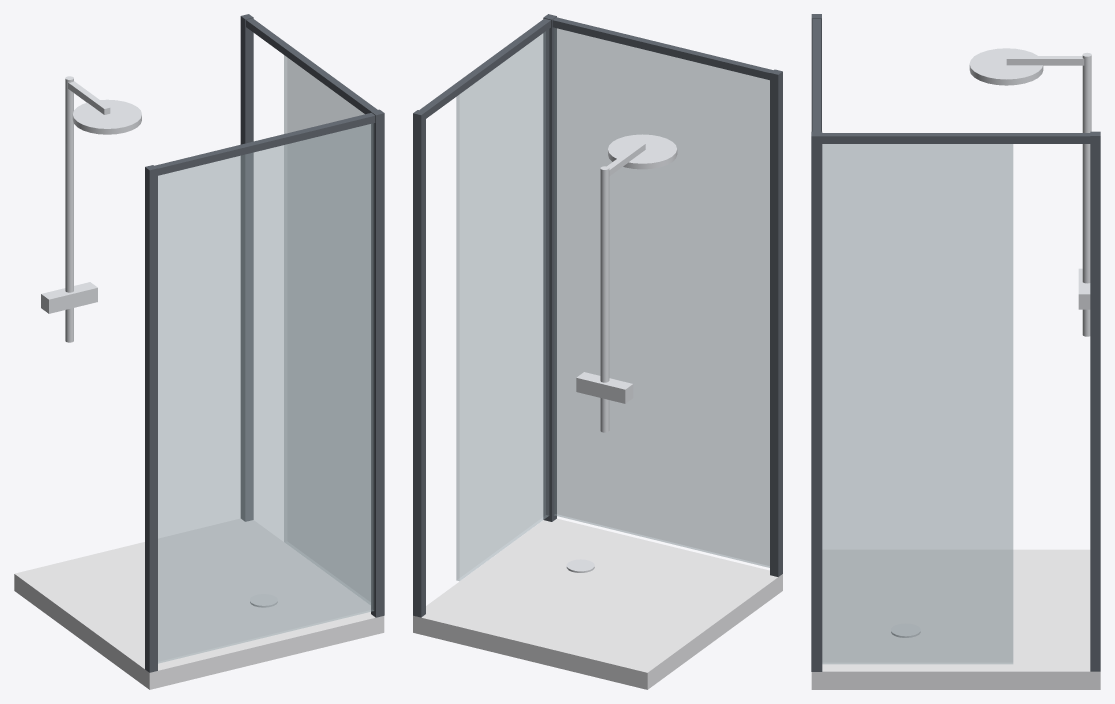
Rendered from Shower1.glb.
3 views of the same model, side by side, from view 1: azimuth 30°, elevation 25°; view 2: azimuth 150°, elevation 25°; view 3: azimuth 270°, elevation 25° (orthographic). The views are drawn at different scales.
Visible parts, largest first — view 1: GlassFront, GlassSide, Tray, PostCorner, PostBack, PostLeft, TopRailFront, ShowerRiser, RainHead, TopRailSide, MixerValve; view 2: GlassFront, GlassSide, Tray, PostCorner, PostLeft, PostBack, TopRailFront, ShowerRiser, TopRailSide, RainHead, MixerValve; view 3: GlassSide, Tray, PostCorner, PostBack, TopRailSide, ShowerRiser, RainHead, TopRailFront, ShowerArm.
Part boxes in pixels (bbox=[...]): GlassFront: bbox=[158, 123, 373, 663]; GlassSide: bbox=[284, 55, 370, 604]; Tray: bbox=[14, 518, 384, 689]; PostCorner: bbox=[371, 109, 384, 617]; PostBack: bbox=[240, 14, 253, 521]; PostLeft: bbox=[145, 165, 157, 672]; TopRailFront: bbox=[154, 113, 375, 175]; ShowerRiser: bbox=[65, 76, 73, 342]; RainHead: bbox=[72, 99, 141, 134]; TopRailSide: bbox=[246, 18, 377, 114]; MixerValve: bbox=[41, 282, 97, 313]; GlassFront: bbox=[554, 28, 769, 567]; GlassSide: bbox=[456, 29, 548, 581]; Tray: bbox=[413, 518, 782, 689]; PostCorner: bbox=[543, 14, 556, 521]; PostLeft: bbox=[770, 69, 782, 576]; PostBack: bbox=[413, 110, 425, 617]; TopRailFront: bbox=[552, 17, 773, 80]; ShowerRiser: bbox=[600, 166, 609, 432]; TopRailSide: bbox=[419, 18, 550, 118]; RainHead: bbox=[608, 134, 677, 169]; MixerValve: bbox=[576, 372, 633, 403]; GlassSide: bbox=[822, 144, 1013, 664]; Tray: bbox=[811, 549, 1100, 689]; PostCorner: bbox=[811, 131, 822, 671]; PostBack: bbox=[1090, 131, 1100, 671]; TopRailSide: bbox=[822, 133, 1090, 143]; ShowerRiser: bbox=[1082, 52, 1091, 336]; RainHead: bbox=[969, 48, 1043, 85]; TopRailFront: bbox=[812, 19, 820, 131]; ShowerArm: bbox=[1006, 56, 1084, 65].
Bounding box in the file's own units: 0.861 × 1.82 × 0.861.
